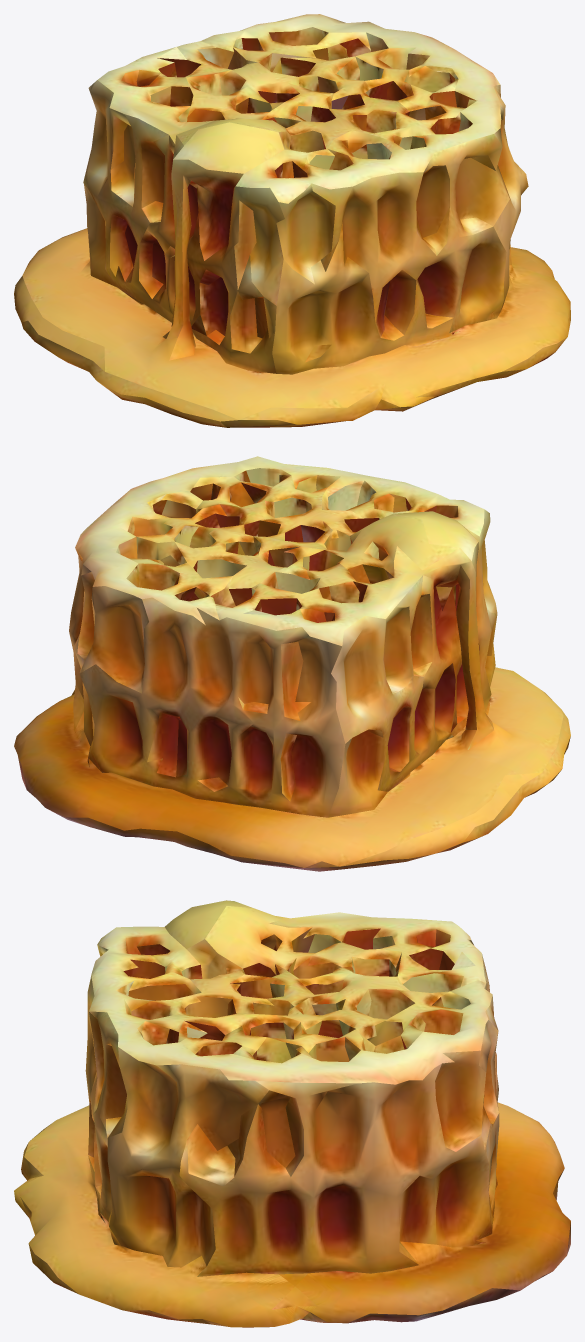
File: honeycomb.glb
3 renders of one model, top to bottom at view 1: azimuth 30°, elevation 25°; view 2: azimuth 150°, elevation 25°; view 3: azimuth 270°, elevation 25°, orthographic. The views are drawn at different scales.
Parts seen in each view (by area): view 1: item_honeycomb; view 2: item_honeycomb; view 3: item_honeycomb.
Part boxes in pixels (x1,y1,x2,y2): item_honeycomb: (14,14,570,427); item_honeycomb: (14,456,570,871); item_honeycomb: (14,900,570,1327).
Bounding box in the file's own units: 1 × 0.5087 × 0.9844.
1 material, 1 textured.
